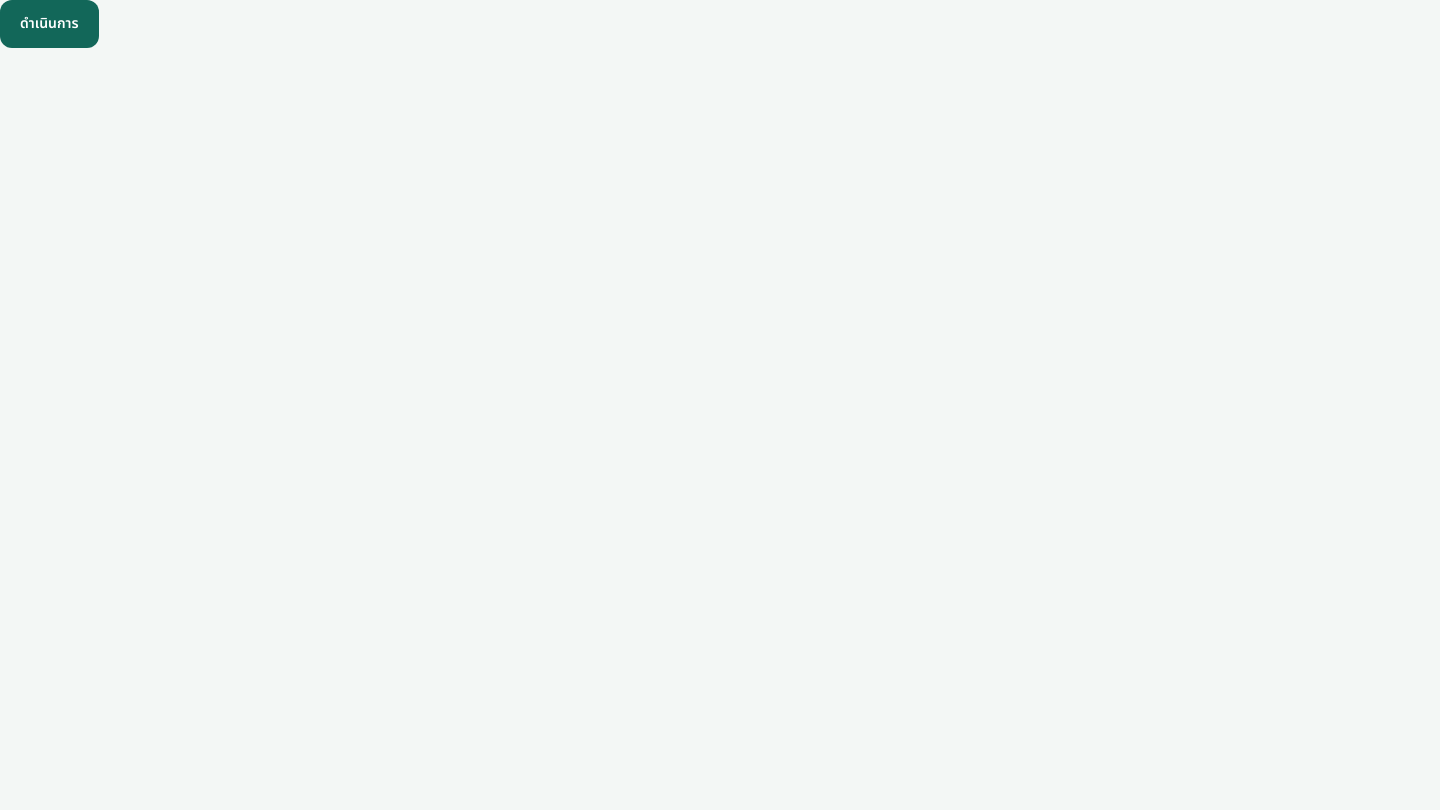
it: ConfirmableActionForm › treats a request that fails before the server answers as an uncertain outcome
Submit the form with test id "submit-action", box [0, 0, 99, 48]
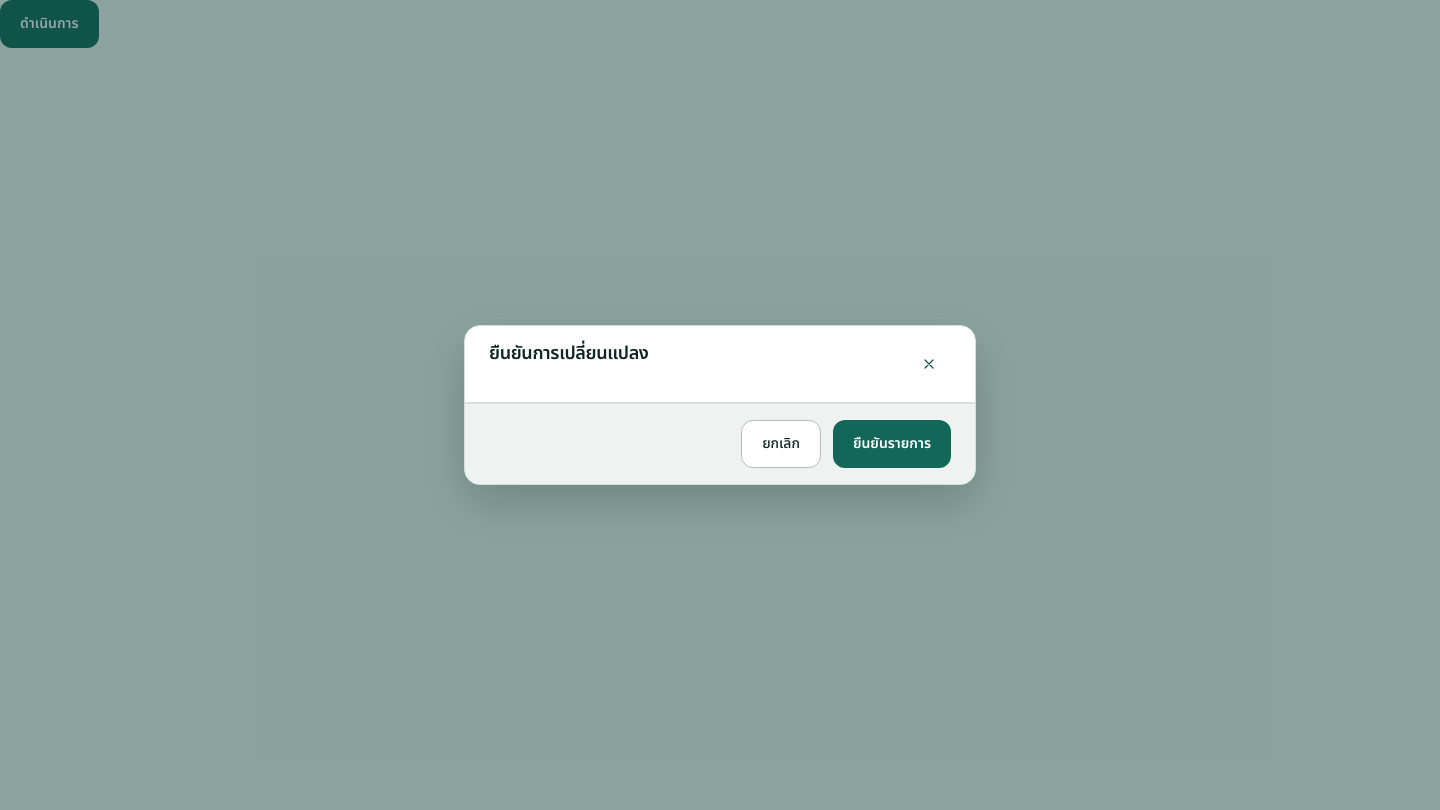
Click the button "ยืนยันรายการ": (892, 444) [833, 420, 951, 468]
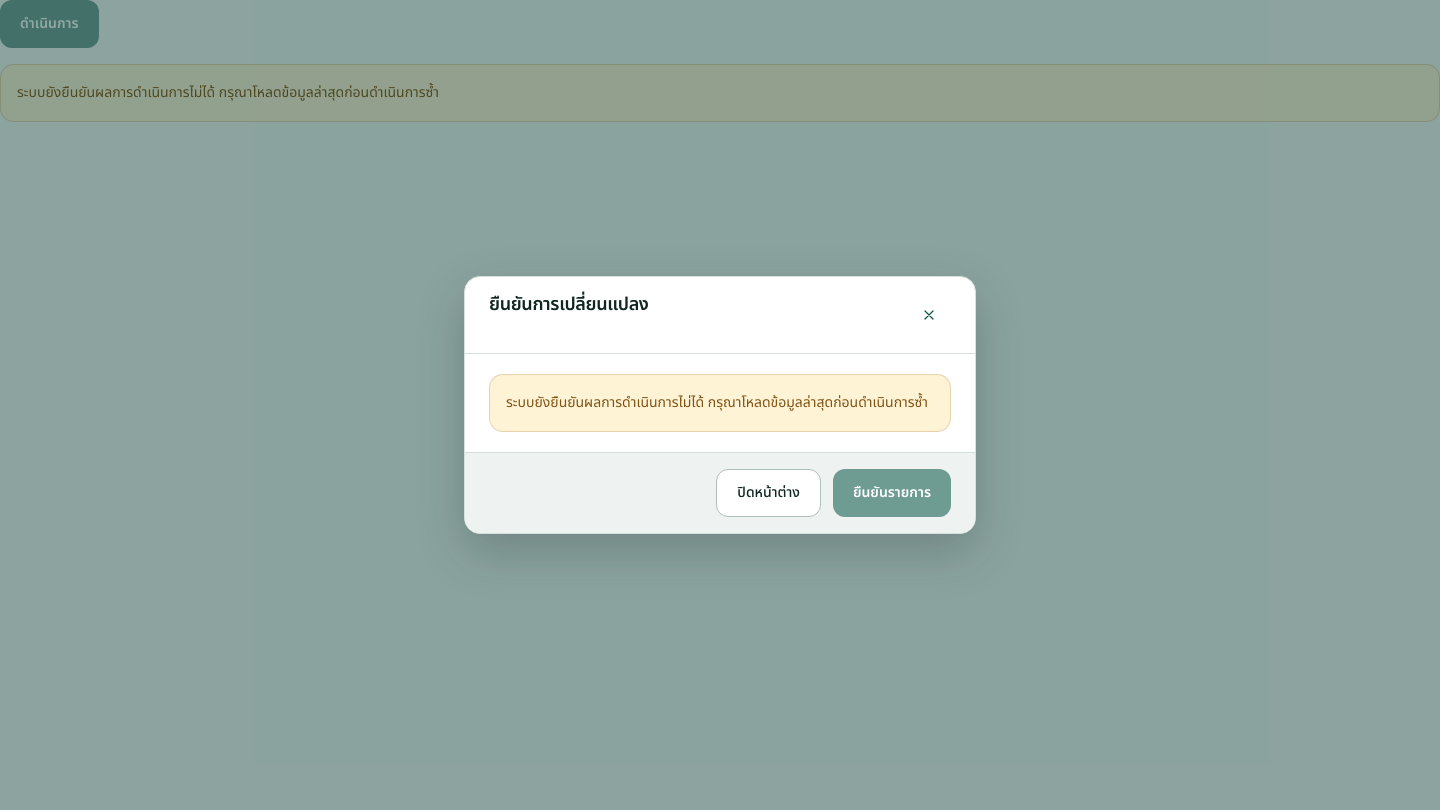
Check: the button "ยืนยันรายการ" is disabled, box [833, 469, 951, 517]
Check: the 1st message "ระบบยังยืนยันผลการดำเนินการไม่ได้ กรุณาโหลดข้อมูลล่าสุดก่อนดำเนินการซ้ำ" is shown, box [0, 64, 1439, 122]
